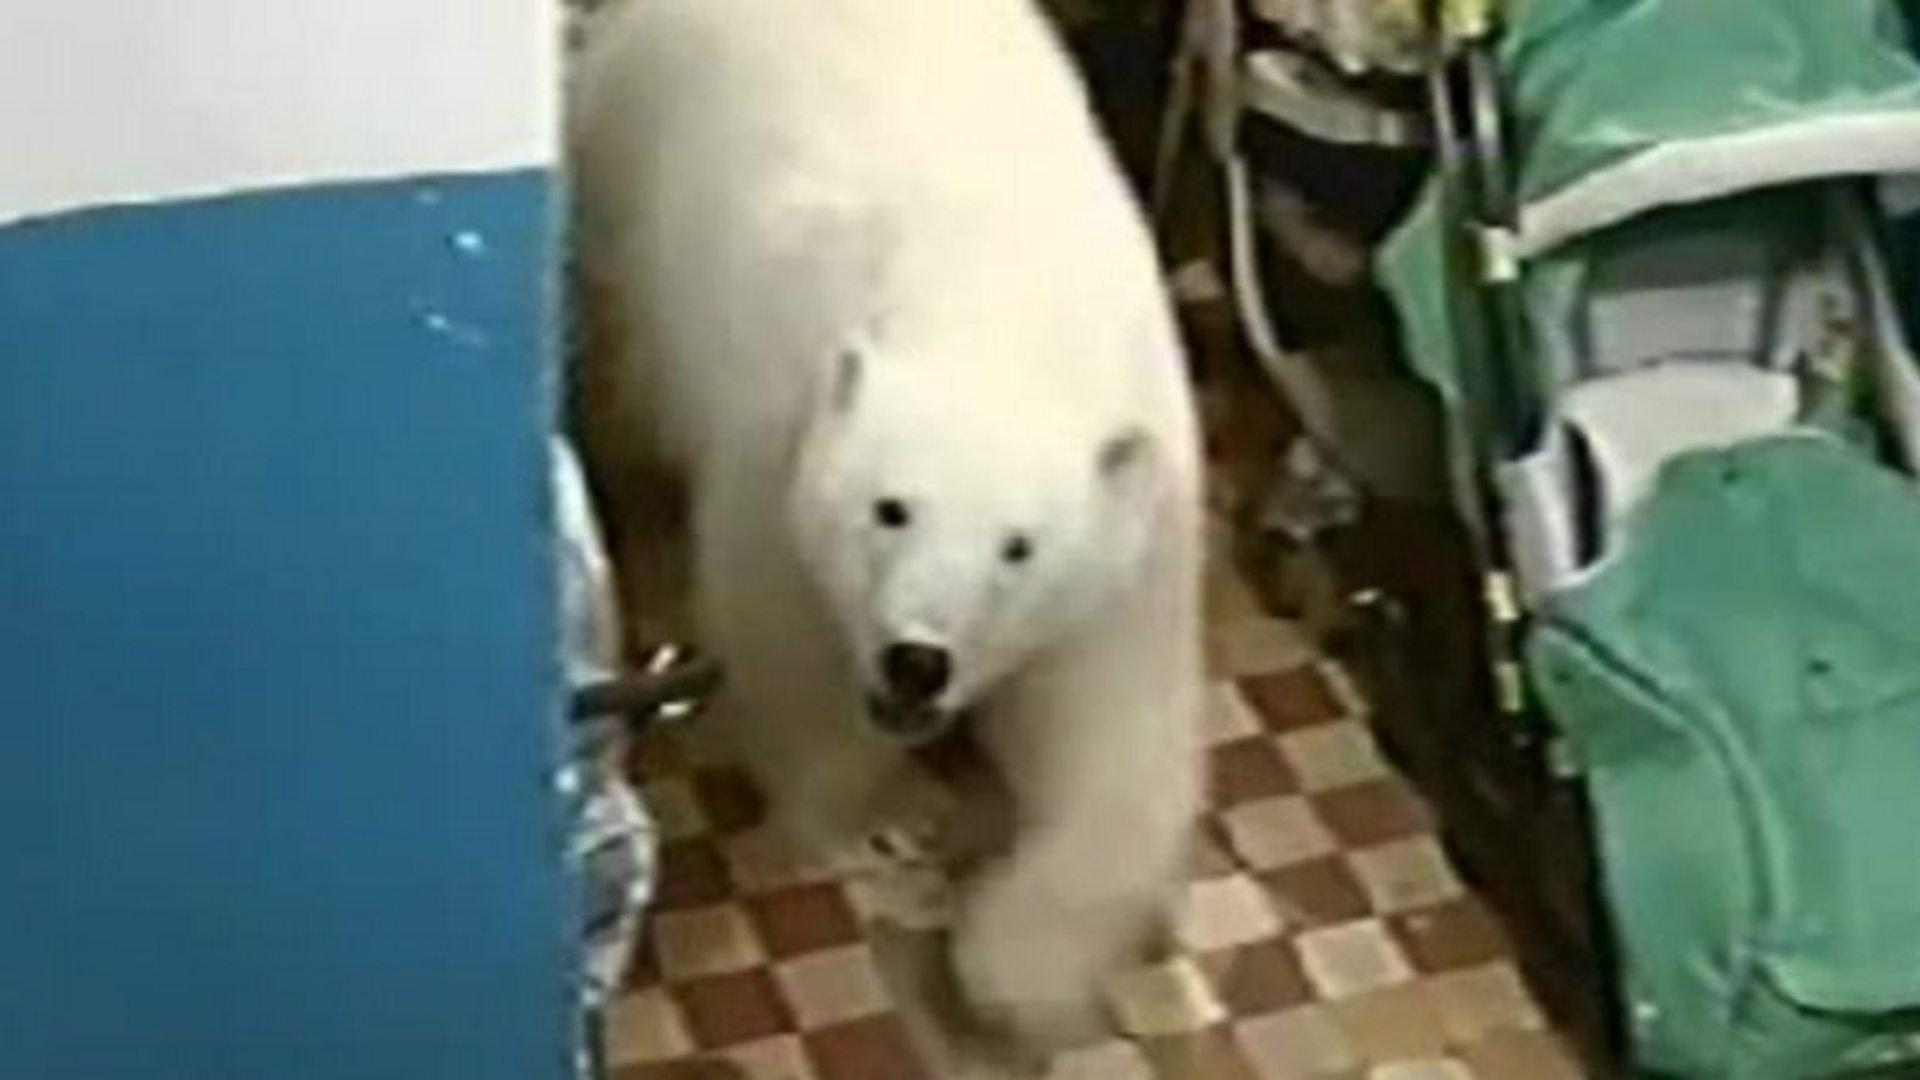bear: (559, 0, 1211, 1030)
